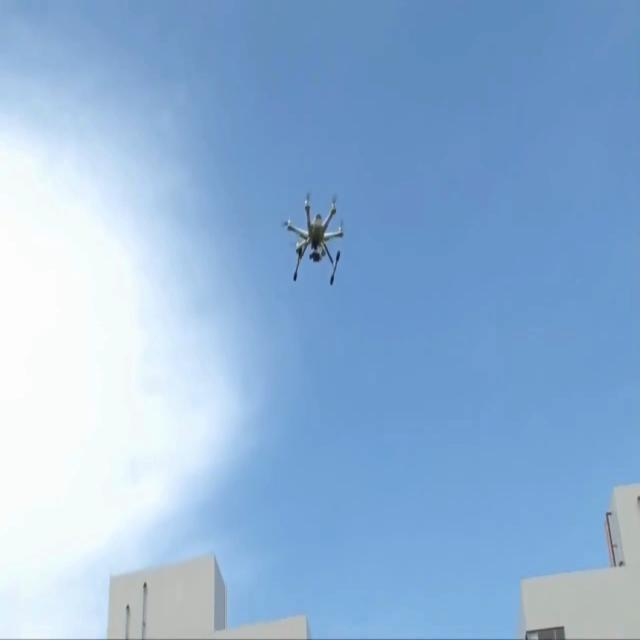drone: (282, 192, 344, 286)
